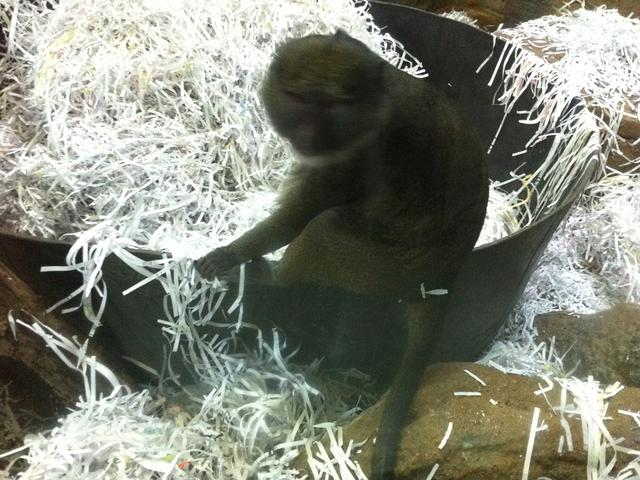monkey: (138, 24, 514, 422)
